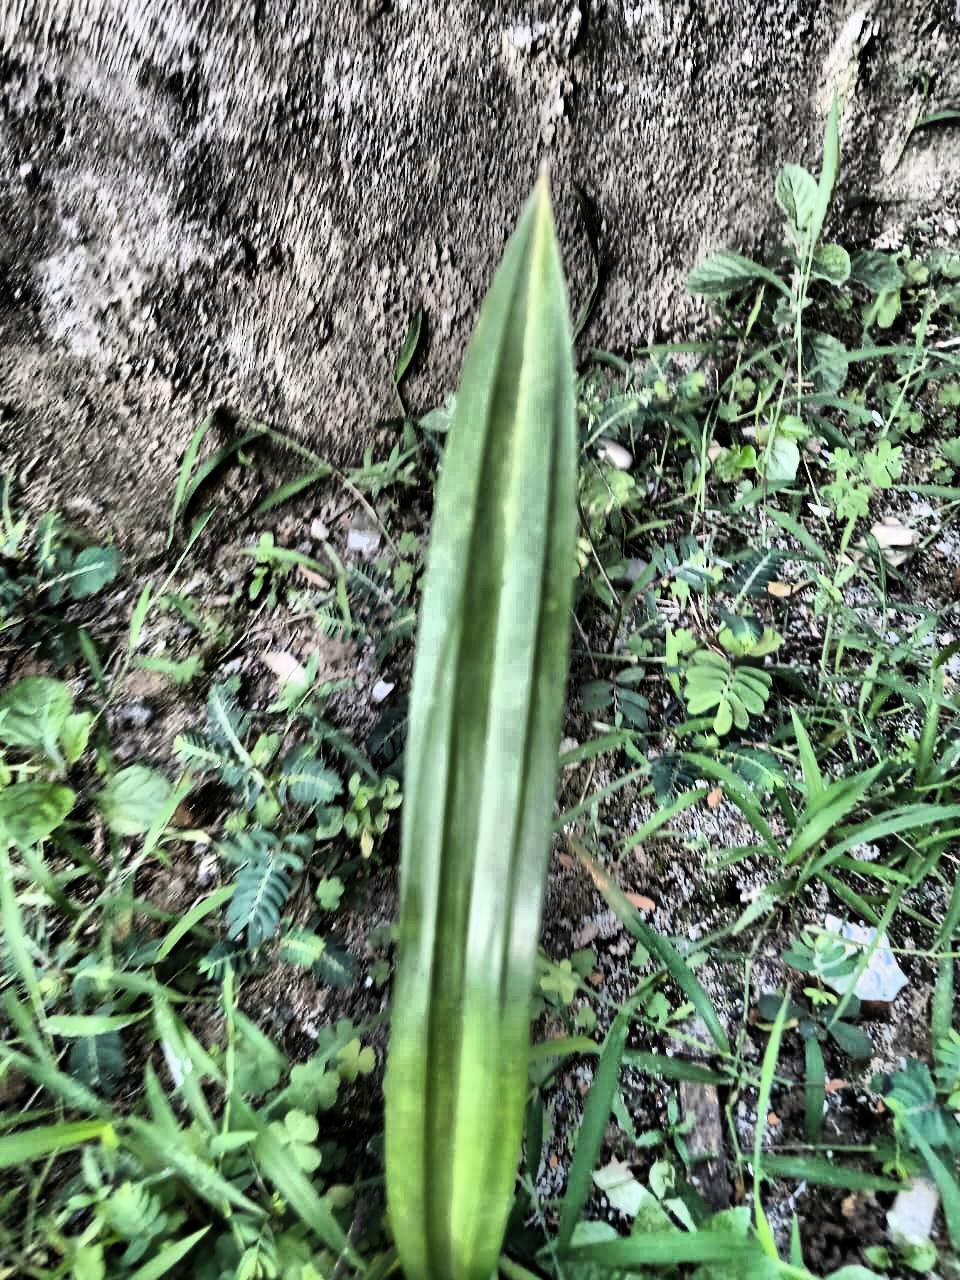daun pandan: (383, 175, 578, 1279)
